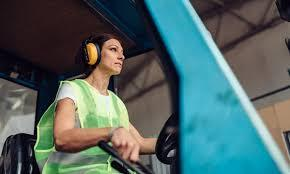Ear_protector: (80, 41, 104, 67)
Humans: (28, 29, 159, 174)
Vest: (37, 75, 135, 174)
